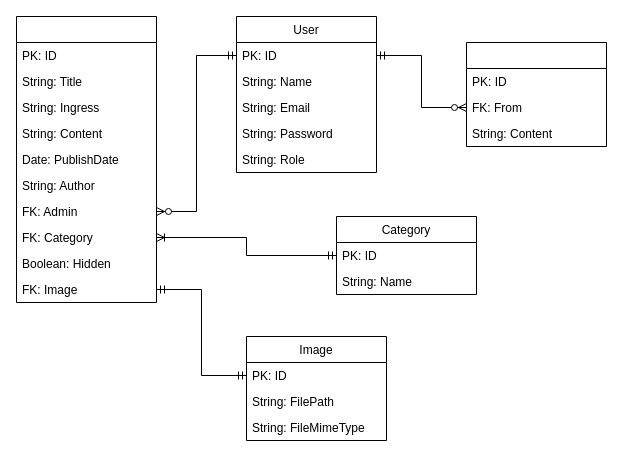
Some shapes in this 623 by 457 pixel diagram are drawn without their labels. The box of each missing label's shape, as (x1, y1, x2, y2) in pixels:
Article: (16, 16, 156, 302)
ContactMessage: (466, 42, 606, 146)
